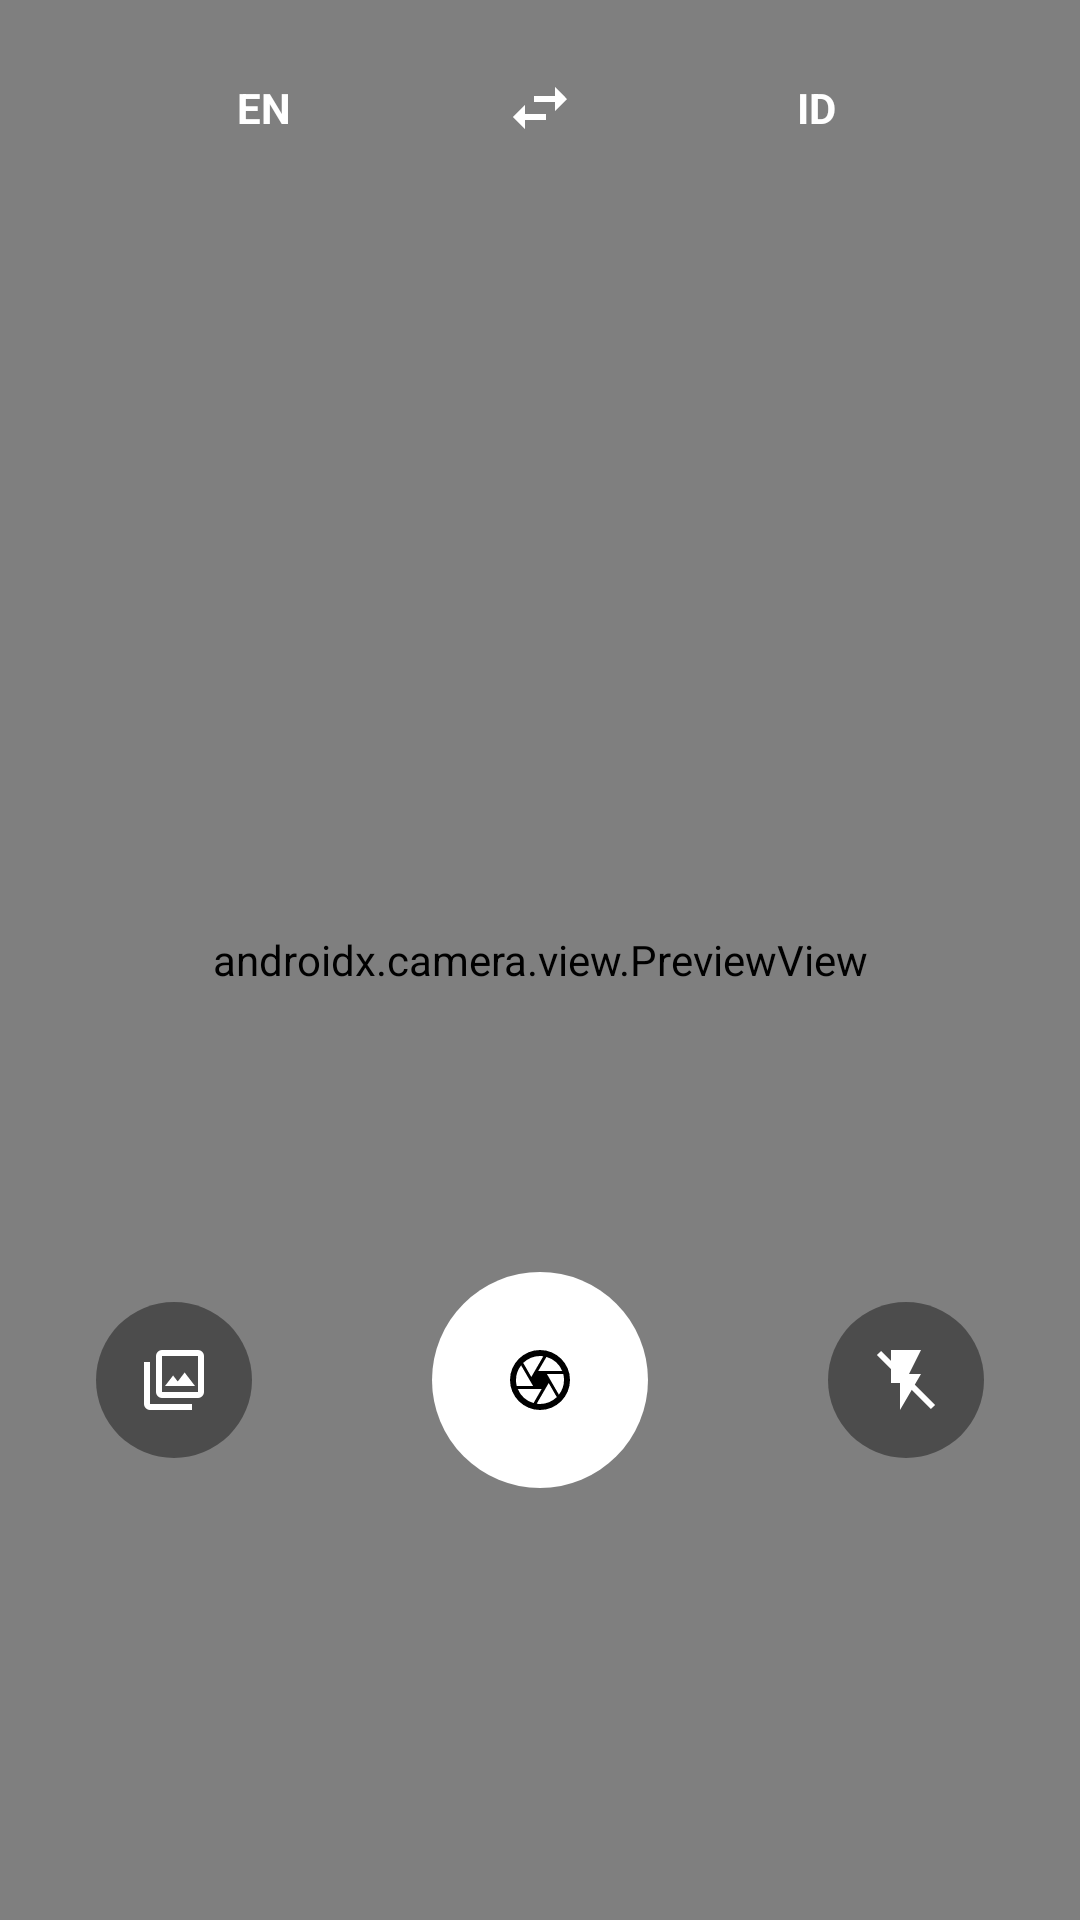

Icons on this 1080px x 1920px Android screen, each with its box as (x1, y1, x2, y2):
flash off: (828, 1302, 984, 1458)
gallery: (96, 1302, 252, 1458)
swap: (513, 87, 567, 129)
